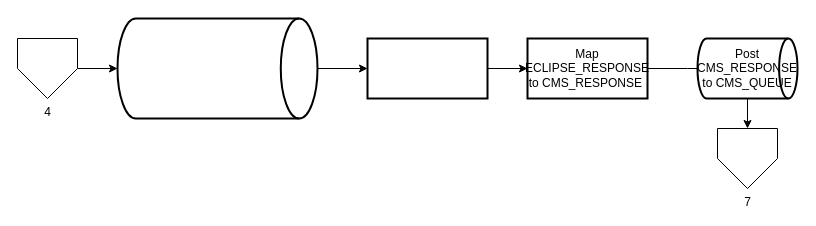
Some shapes in this 816 by 226 pixel diagram are drawn without their labels. The centre of each missing label's shape, as x and y in pixels:
Eclipse RESPONSE in "RESPONSE_PROCESSING_QUEUE": the point at 217,68
Store key data in Reconciliation Table: the point at 427,68
